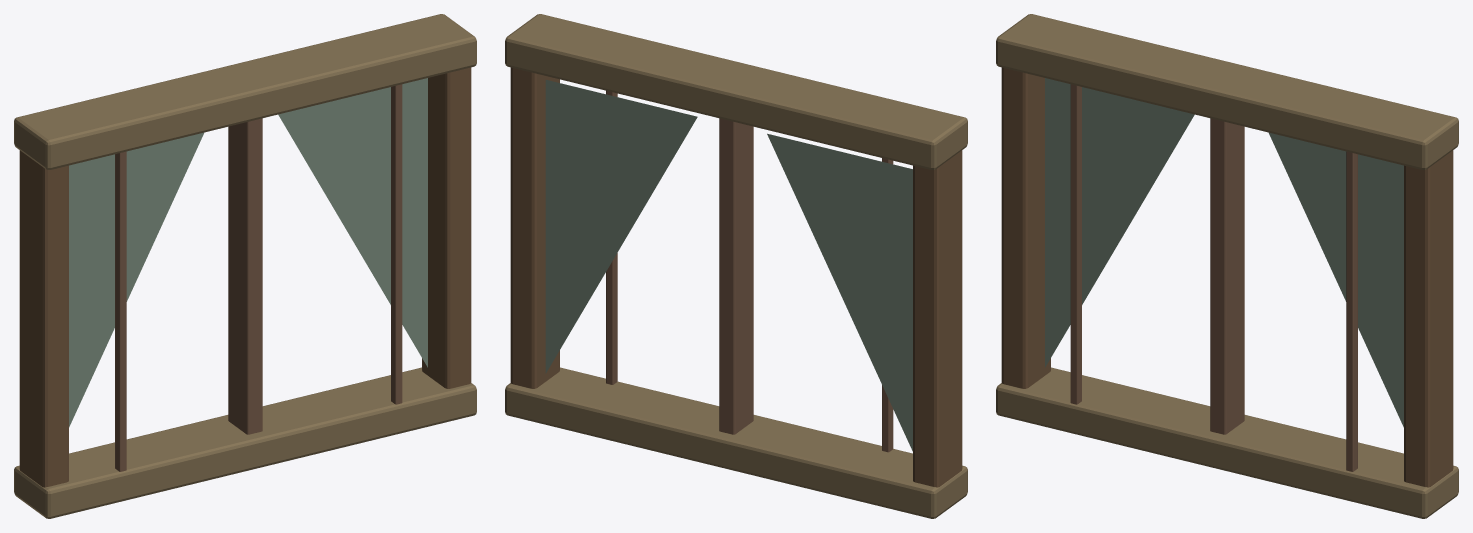
File: broken_window.glb
3 views of the same model, side by side, from view 1: azimuth 30°, elevation 25°; view 2: azimuth 150°, elevation 25°; view 3: azimuth 330°, elevation 25° (orthographic).
Visible parts, largest first — view 1: broken_window; view 2: broken_window; view 3: broken_window.
Part boxes in pixels (x1,y1,x2,y2): broken_window: (14, 14, 476, 518); broken_window: (505, 14, 967, 518); broken_window: (996, 14, 1458, 518).
Size of the model in its own units: 1.5 by 1.26 by 0.21.
